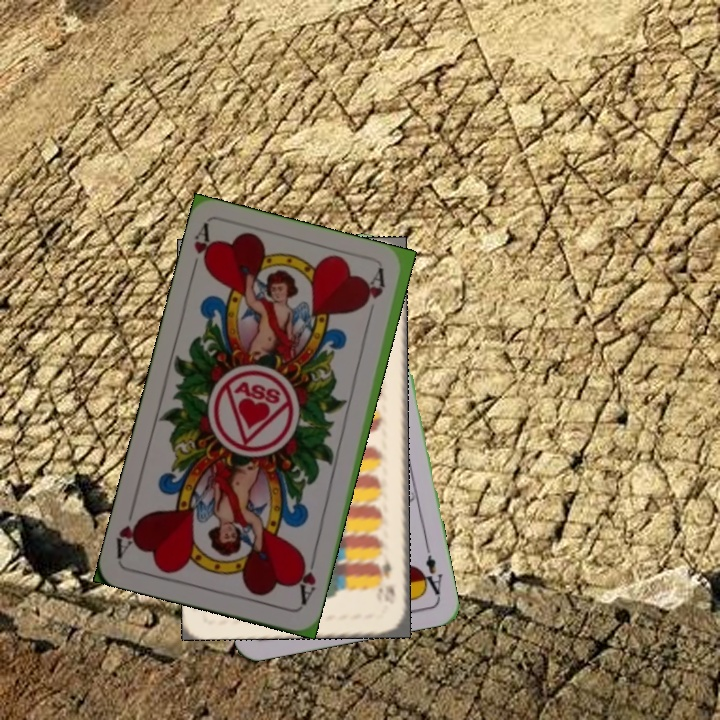E10: (374, 552, 397, 599)
EA: (417, 541, 445, 600)
HA: (186, 222, 218, 280), (292, 550, 319, 608)
